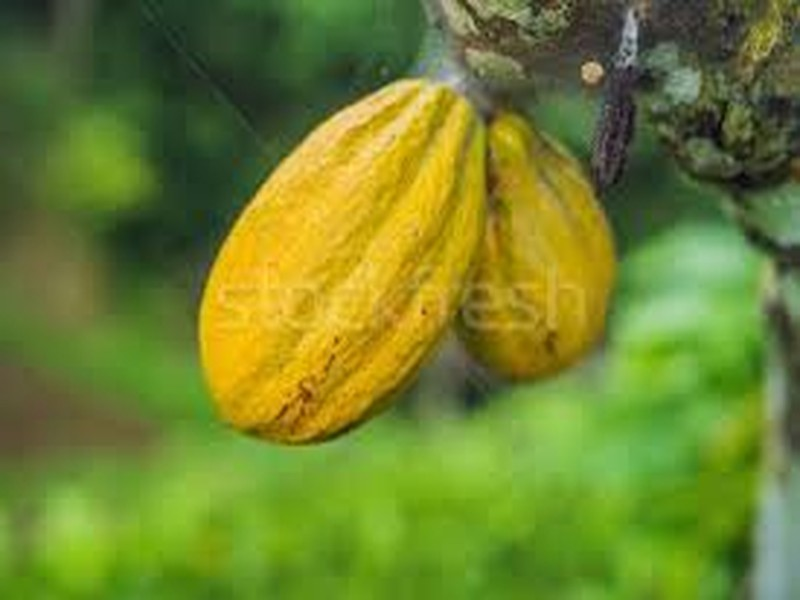Cacaopod: (195, 75, 491, 451)
